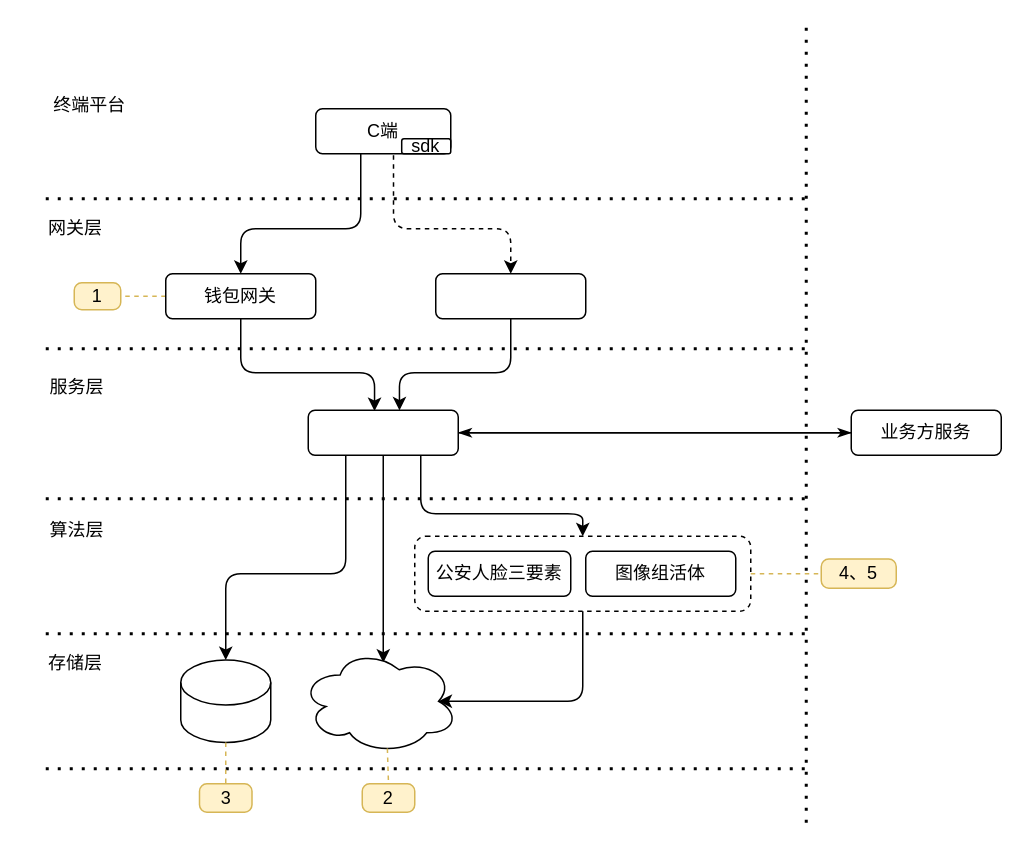
The diagram is 1028 pixels wide and 851 high, and some of its shapes have lost their labels. The shapes that lost their labels are listed below. From the top down, each one's centre as x and y in pixels, then its label:
At point 510,295: "人脸网关".
At point 382,432: "人脸后台".
At point 225,700: "识别记录".
At point 378,700: "安全存储 SFS".
